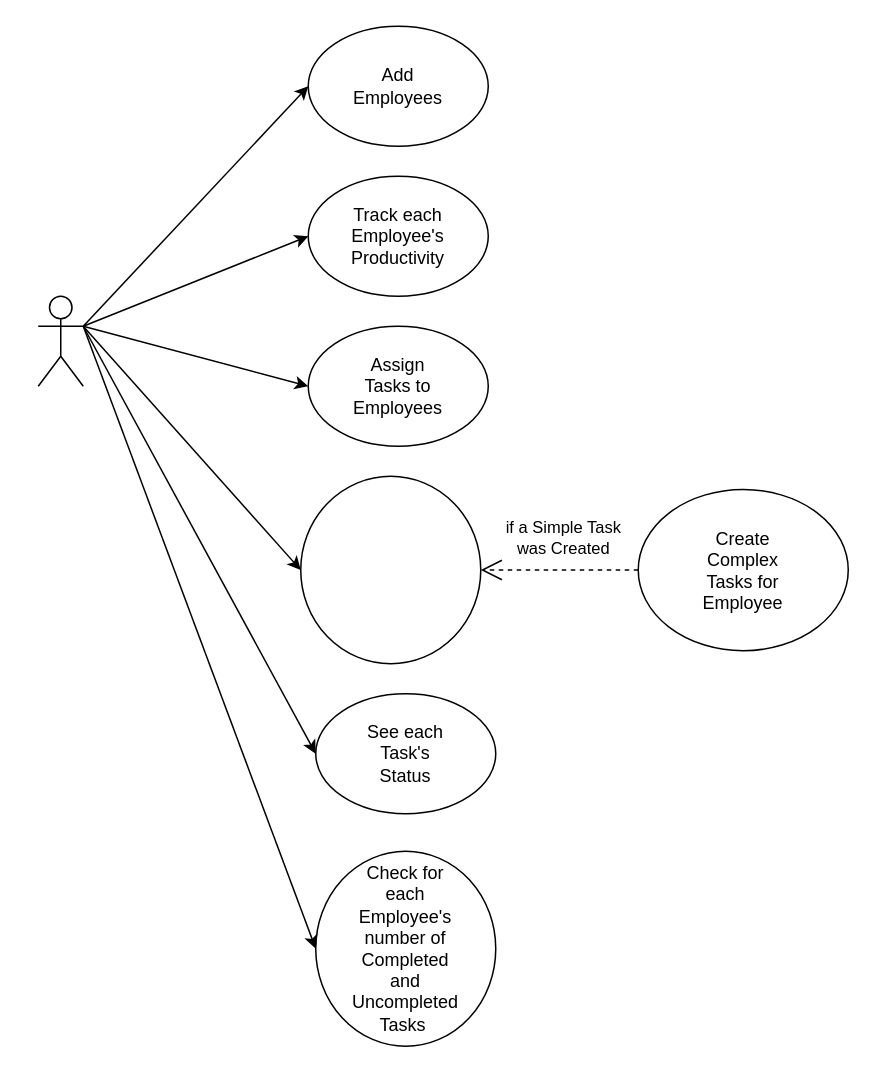
This 875x1073 diagram has some shape labels left out. The centre of each missing label's shape, as x and y in pixels:
Create Simple Tasks for Employees: (390,569)
Manager: (60,340)
